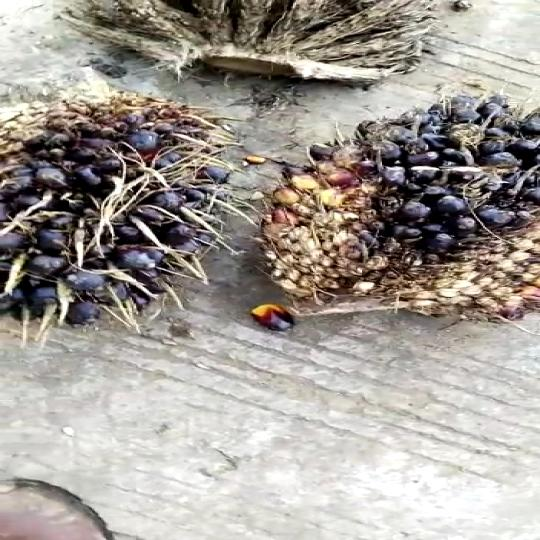mentah: (260, 95, 540, 353), (0, 83, 214, 350)
